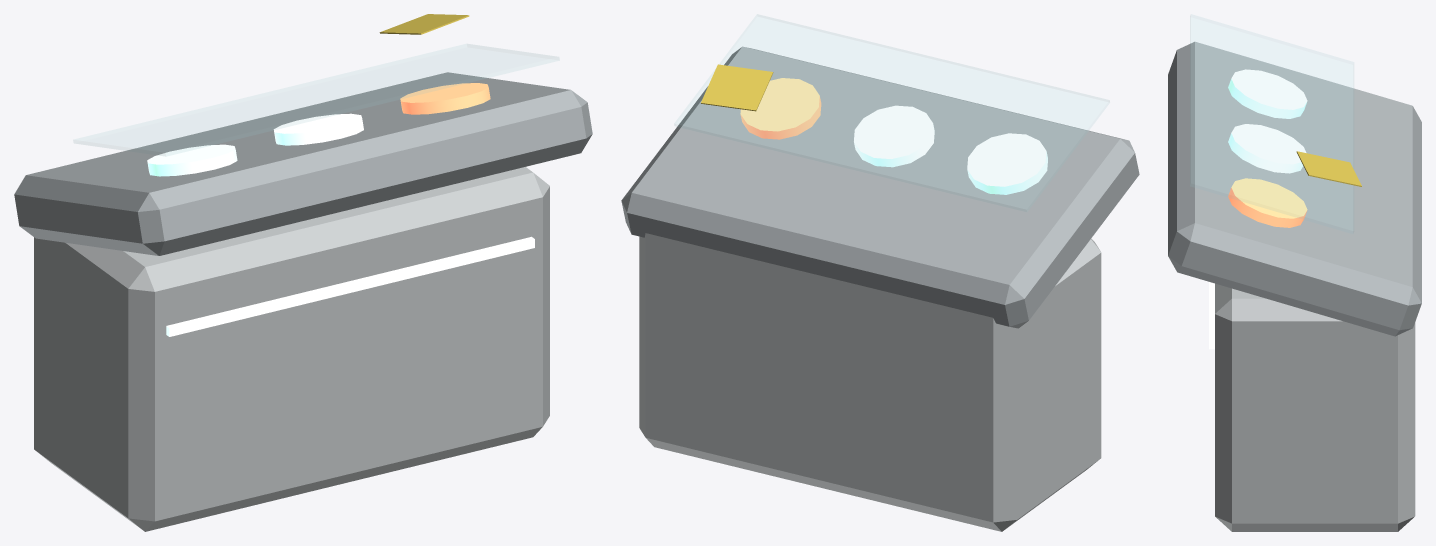
The picture shows the model from 3 angles, left to right: view 1: azimuth 30°, elevation 25°; view 2: azimuth 150°, elevation 25°; view 3: azimuth 270°, elevation 25°; orthographic projection. The views are drawn at different scales.
Visible parts, largest first — view 1: an_test; view 2: an_test; view 3: an_test.
Boxes of the visible parts, box(x1,y1,x2,y2) form: an_test: box(14, 14, 592, 531); an_test: box(621, 14, 1139, 531); an_test: box(1168, 14, 1421, 531).
Bounding box in the file's own units: 1.6 × 1.35 × 0.8869.
